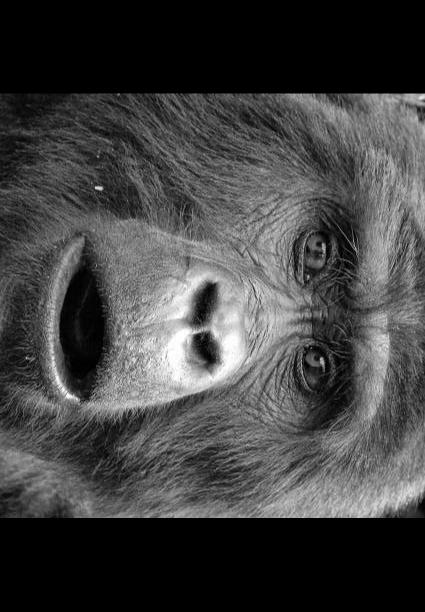goriile_montagne: (0, 96, 425, 518)
